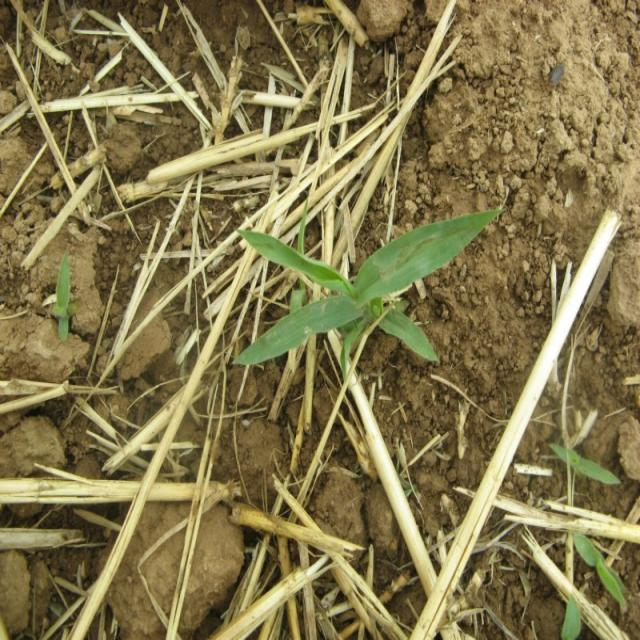bg: (238, 204, 500, 373)
